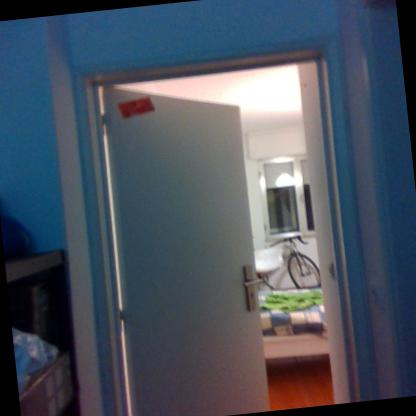semi: (77, 45, 361, 415)
